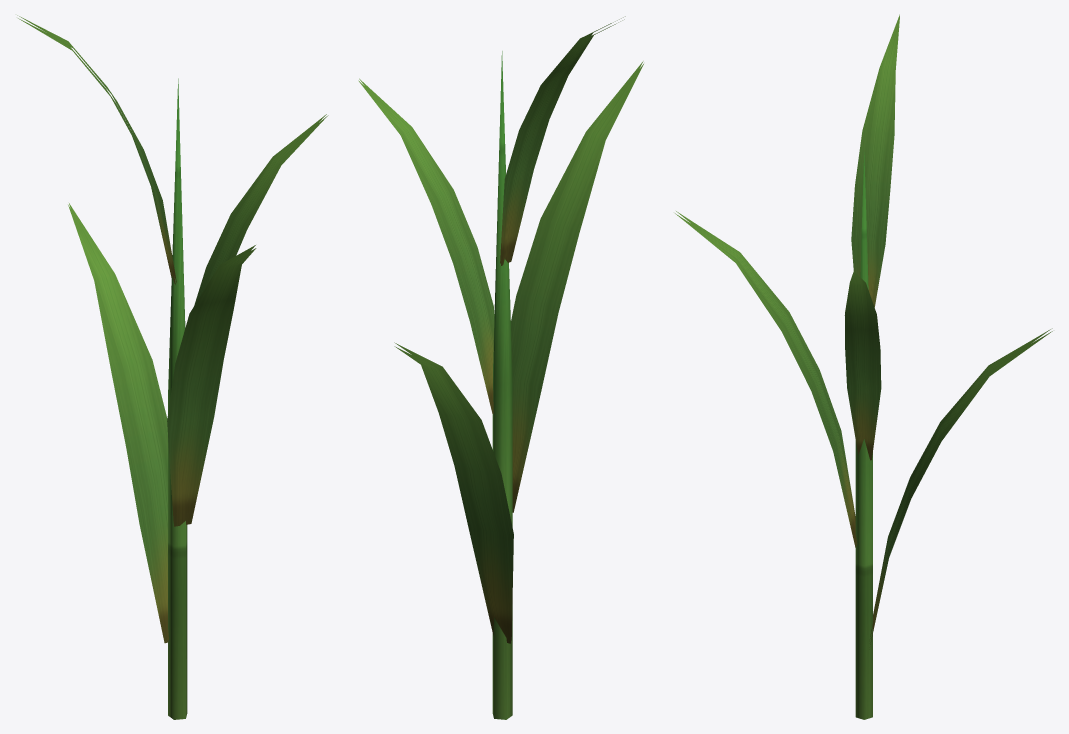
File: reed_small.FBX
The picture shows the model from 3 angles, left to right: view 1: azimuth 30°, elevation 25°; view 2: azimuth 150°, elevation 25°; view 3: azimuth 270°, elevation 25°; orthographic projection. The views are drawn at different scales.
Visible parts, largest first — view 1: reed_small; view 2: reed_small; view 3: reed_small.
Boxes of the visible parts, x1=… form: reed_small: x1=17, y1=15, x2=328, y2=719; reed_small: x1=358, y1=16, x2=643, y2=719; reed_small: x1=675, y1=14, x2=1052, y2=719.
Size of the model in its own units: 24.77 by 59.27 by 31.98.
Materials: 1 (1 with a texture image).
